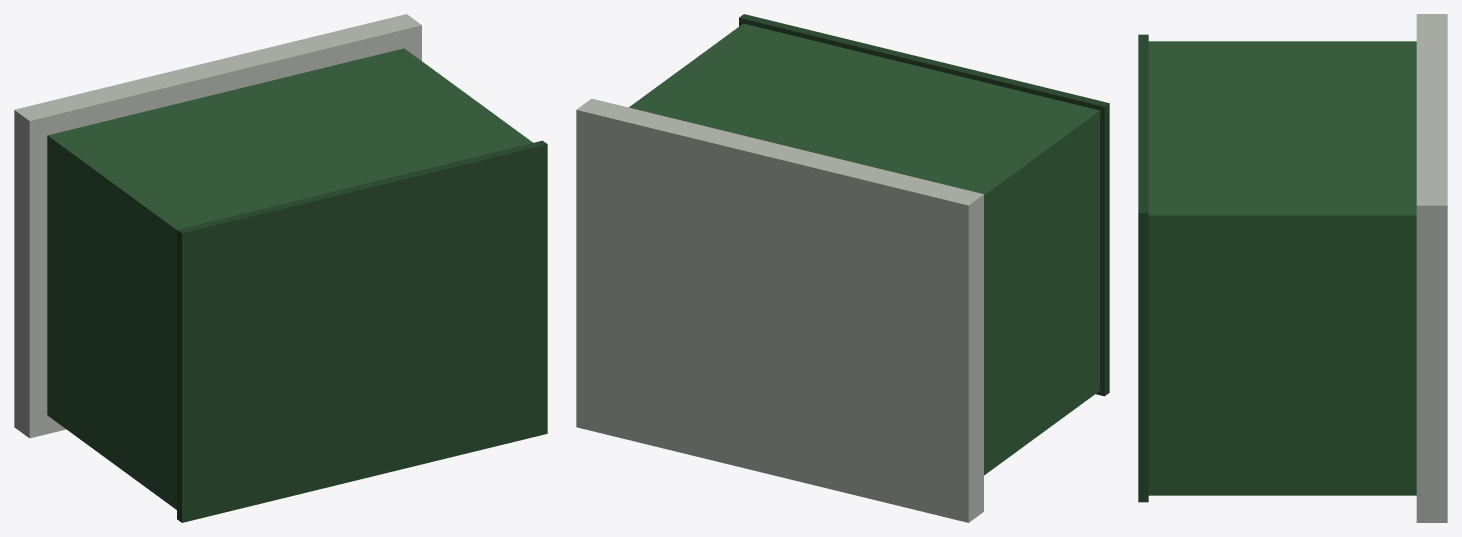
File: padmount-transformer.glb
3 views of the same model, side by side, from view 1: azimuth 30°, elevation 25°; view 2: azimuth 150°, elevation 25°; view 3: azimuth 270°, elevation 25° (orthographic).
Visible parts, largest first — view 1: padmount-transformer; view 2: padmount-transformer; view 3: padmount-transformer.
Boxes of the visible parts, <box> form: padmount-transformer: <box>14,14,547,522</box>; padmount-transformer: <box>576,14,1109,522</box>; padmount-transformer: <box>1138,14,1447,522</box>.
Bounding box in the file's own units: 4.4 × 3.4 × 3.
